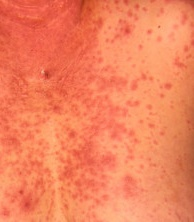SJS-TEN: (0, 1, 147, 219)
